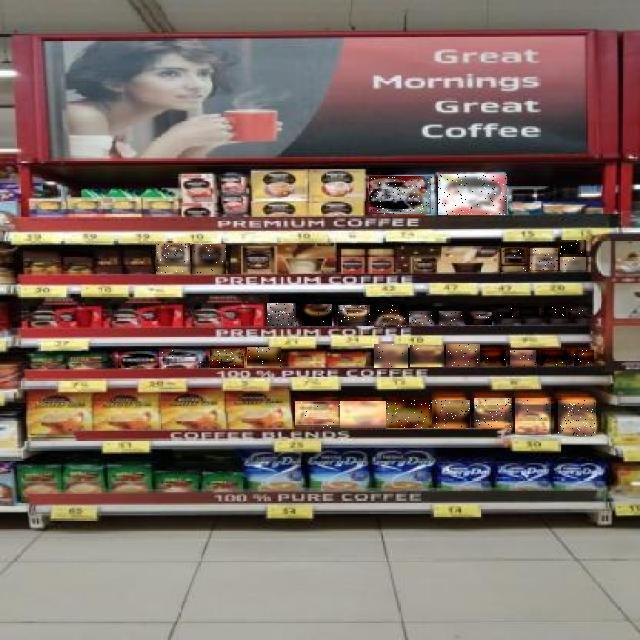Coffee: (438, 174, 507, 215), (370, 177, 434, 215), (516, 398, 554, 436), (559, 401, 597, 437), (386, 401, 432, 429), (340, 402, 386, 430), (295, 402, 340, 430), (474, 398, 512, 428), (433, 400, 471, 428), (156, 243, 190, 274), (192, 244, 226, 274), (161, 350, 202, 370), (374, 344, 408, 368), (446, 344, 480, 367), (410, 345, 444, 367), (118, 350, 159, 368), (374, 304, 406, 327), (268, 303, 298, 326), (247, 348, 281, 368), (501, 248, 529, 272), (338, 305, 370, 326), (302, 305, 332, 327), (210, 349, 244, 368), (530, 248, 558, 270), (480, 351, 506, 367), (510, 351, 536, 367), (541, 351, 567, 367), (560, 240, 586, 254), (560, 258, 586, 272), (440, 312, 466, 326), (466, 312, 492, 325), (410, 312, 434, 326), (574, 351, 594, 367), (496, 304, 516, 318), (545, 306, 567, 316), (572, 306, 592, 316), (519, 306, 539, 316)
